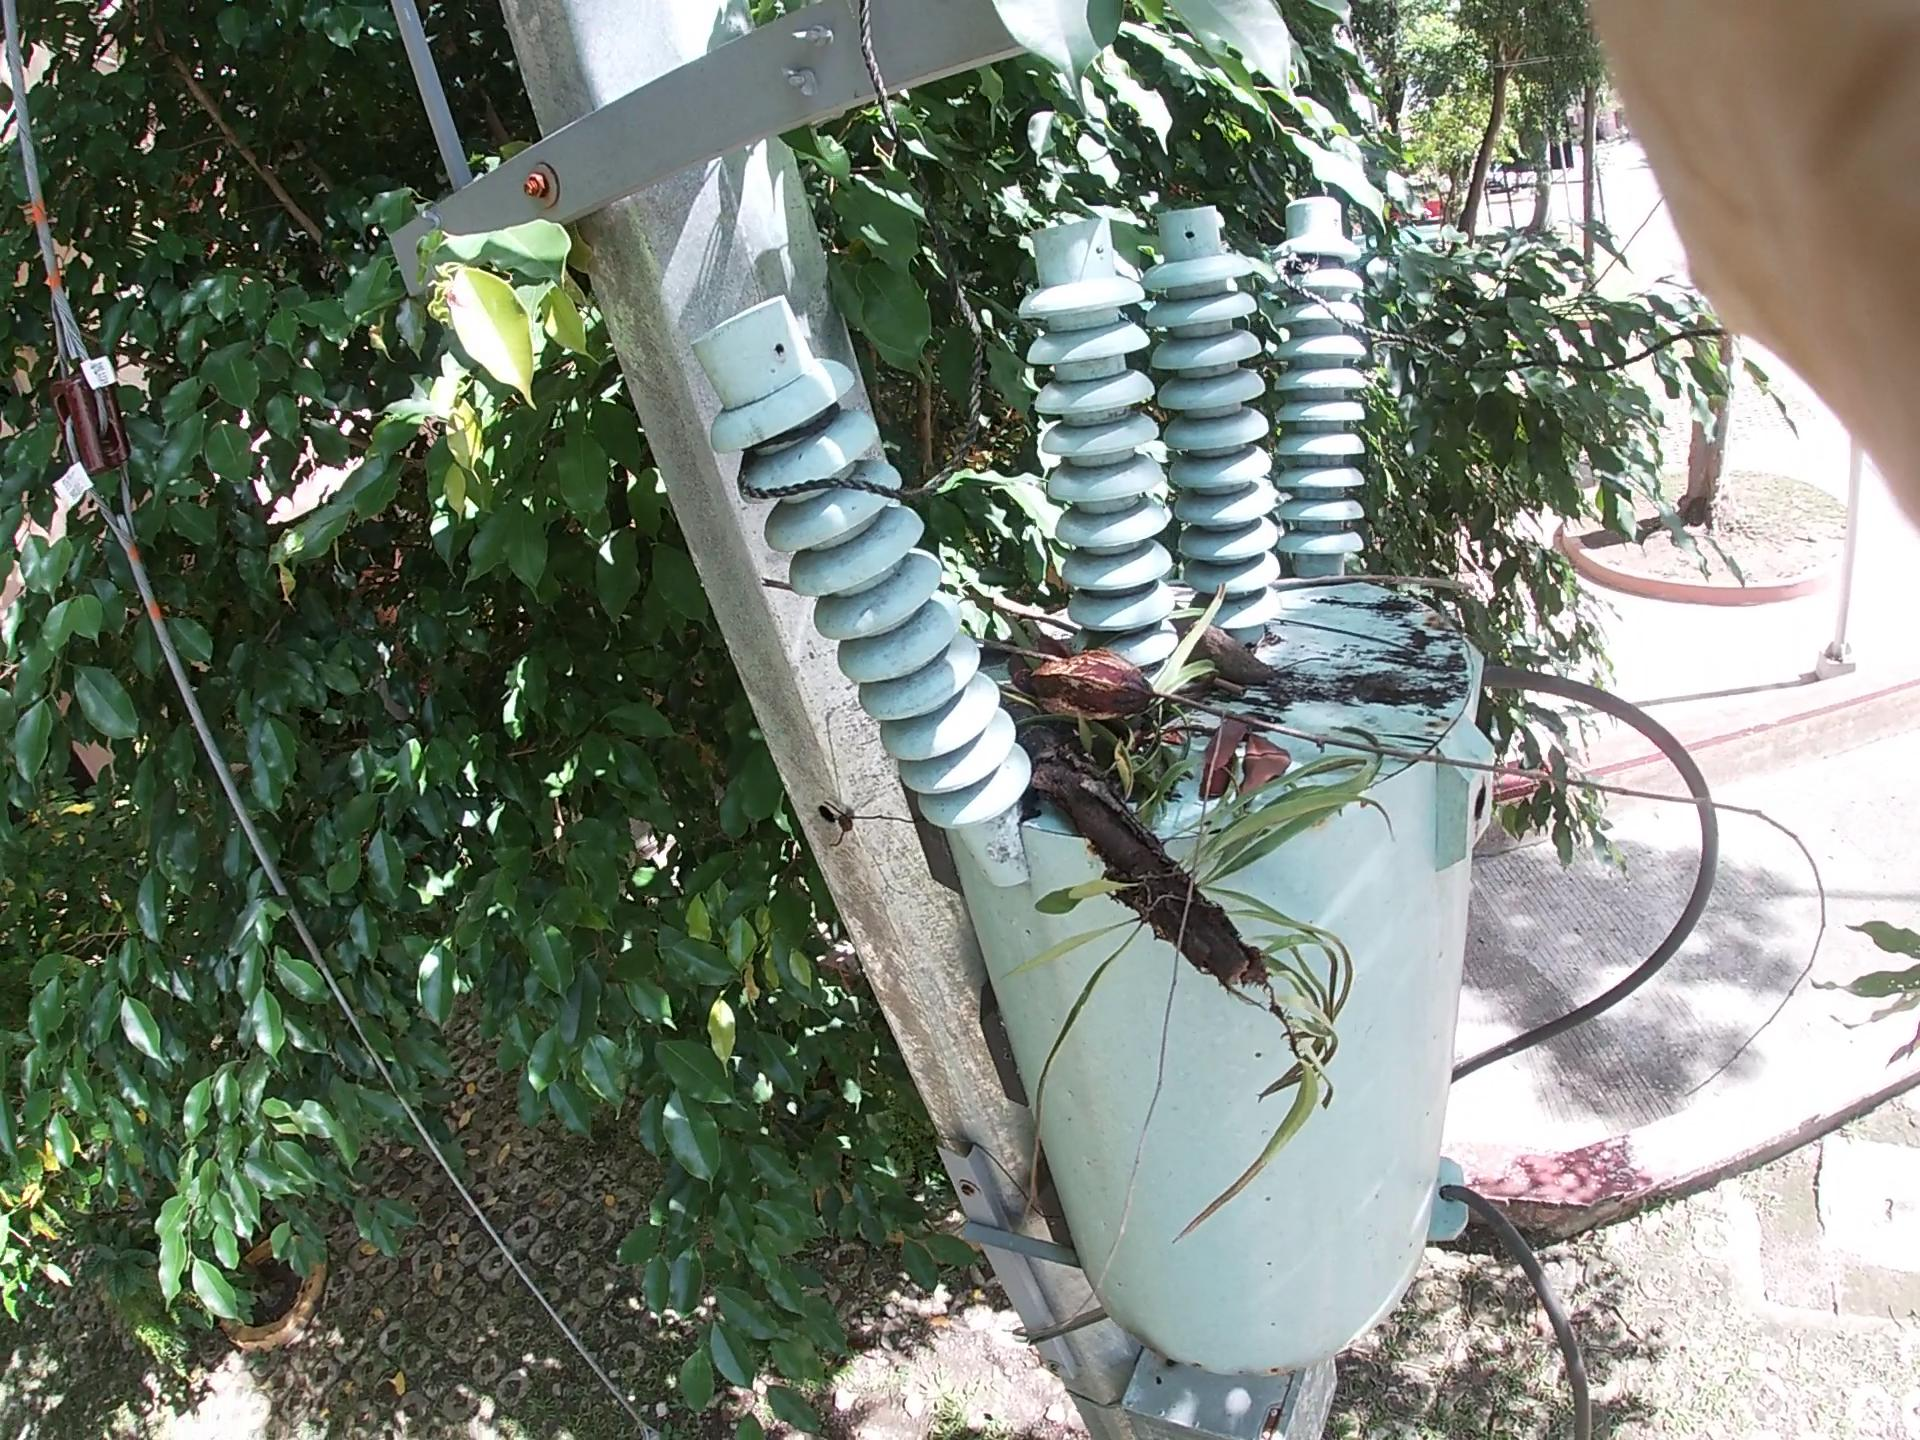branch with leaves: (745, 594, 1852, 909), (954, 613, 1479, 1150)
leaf: (1138, 682, 1288, 820)
mahogany fruit: (939, 611, 1152, 740), (1129, 579, 1285, 682)
tree branch: (1281, 532, 1504, 641), (1178, 646, 1277, 715)
